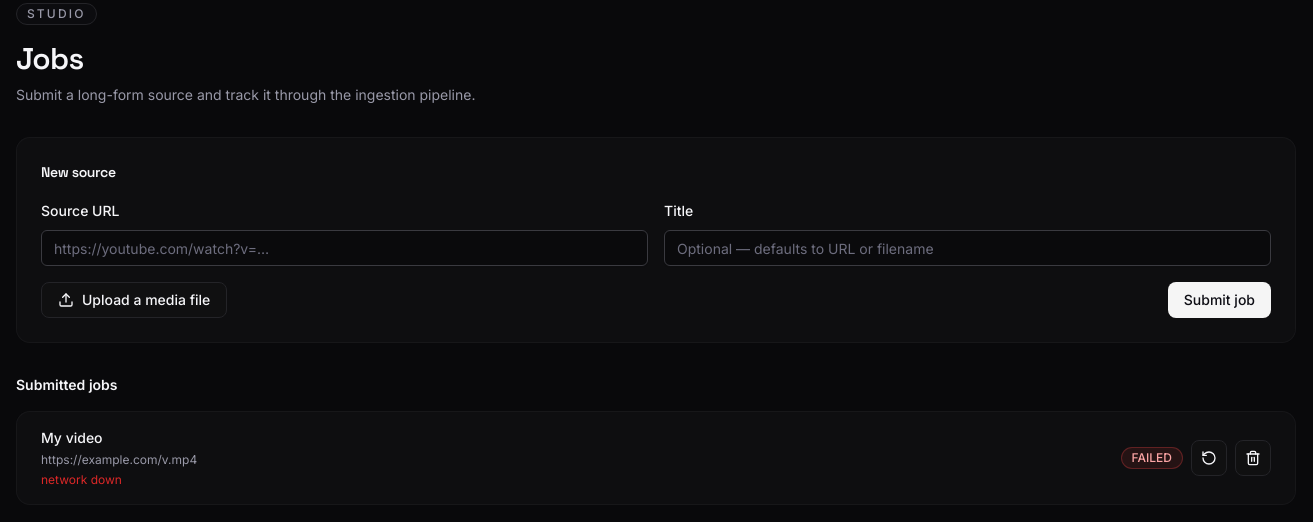
Test: JobsPage › retries a failed job via the retry button
Expected: the text "FAILED" is shown, [1120,447,1183,469]
Click the button named "retry job": [1209, 458] box [1191,440,1227,476]
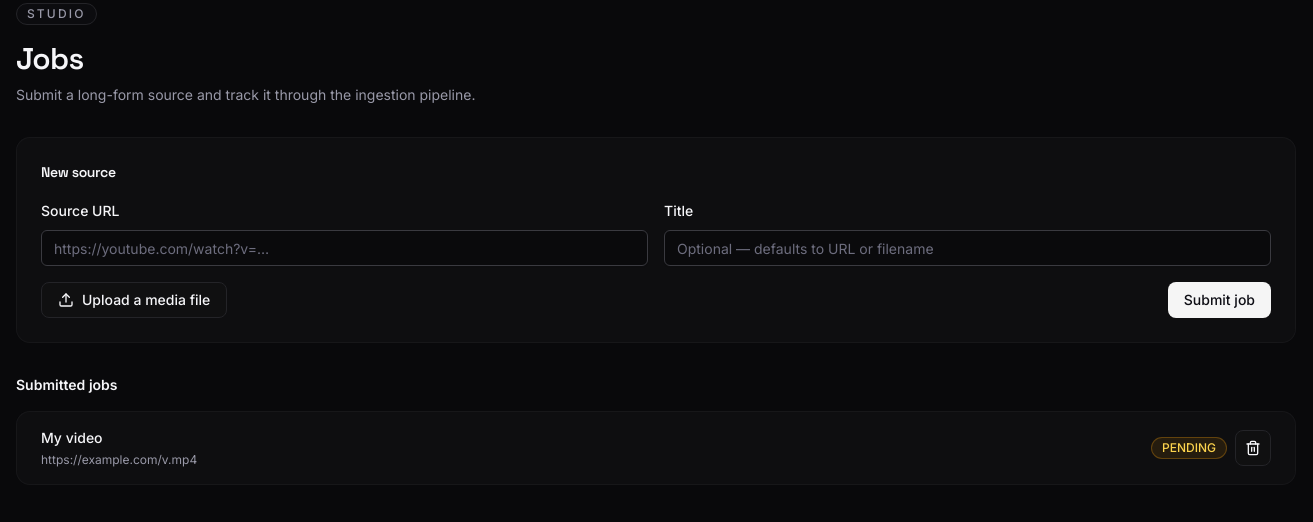
Now the text "PENDING" is shown, box [1151,437,1227,459]
